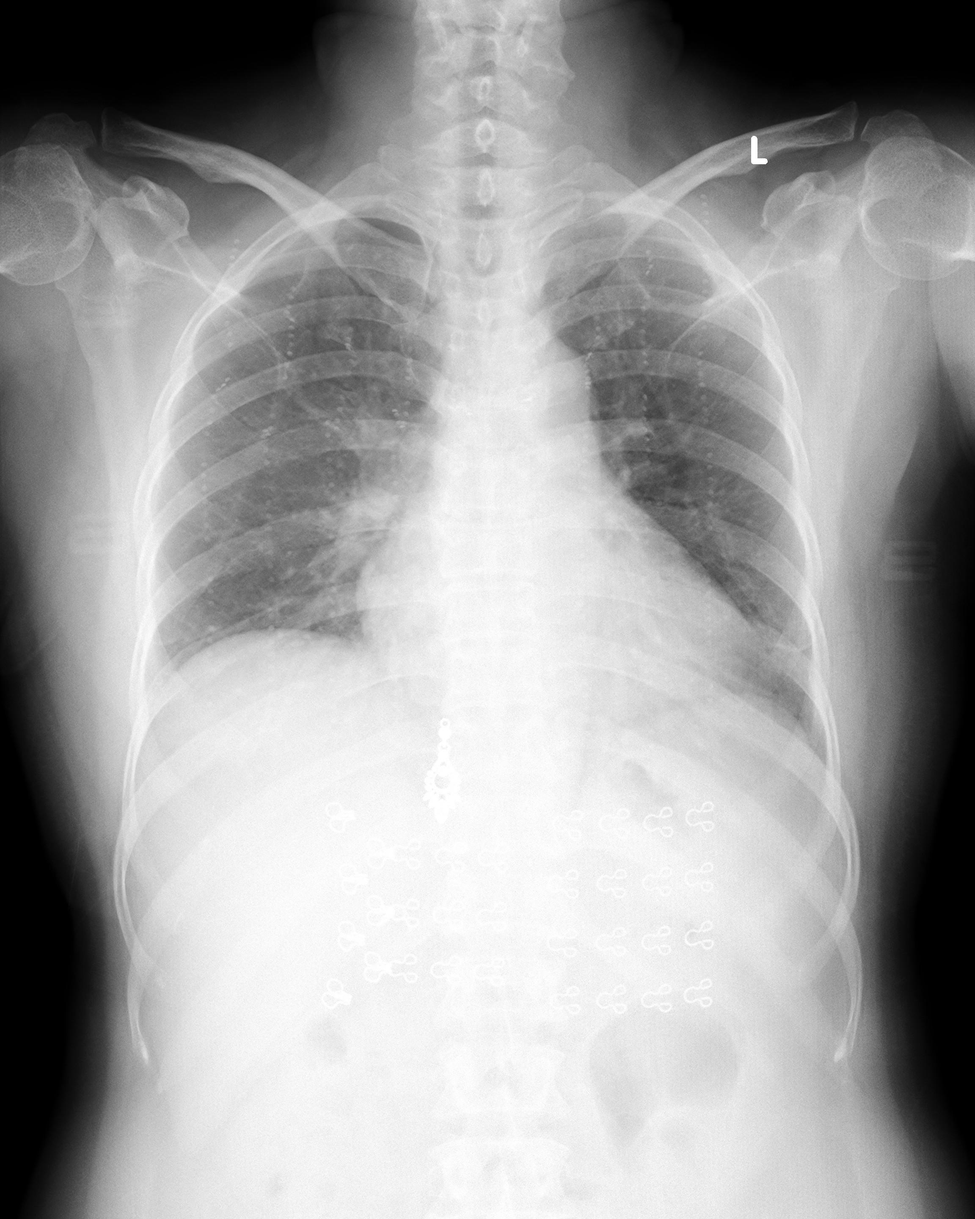Cardiomegaly: (352, 517, 762, 683)
